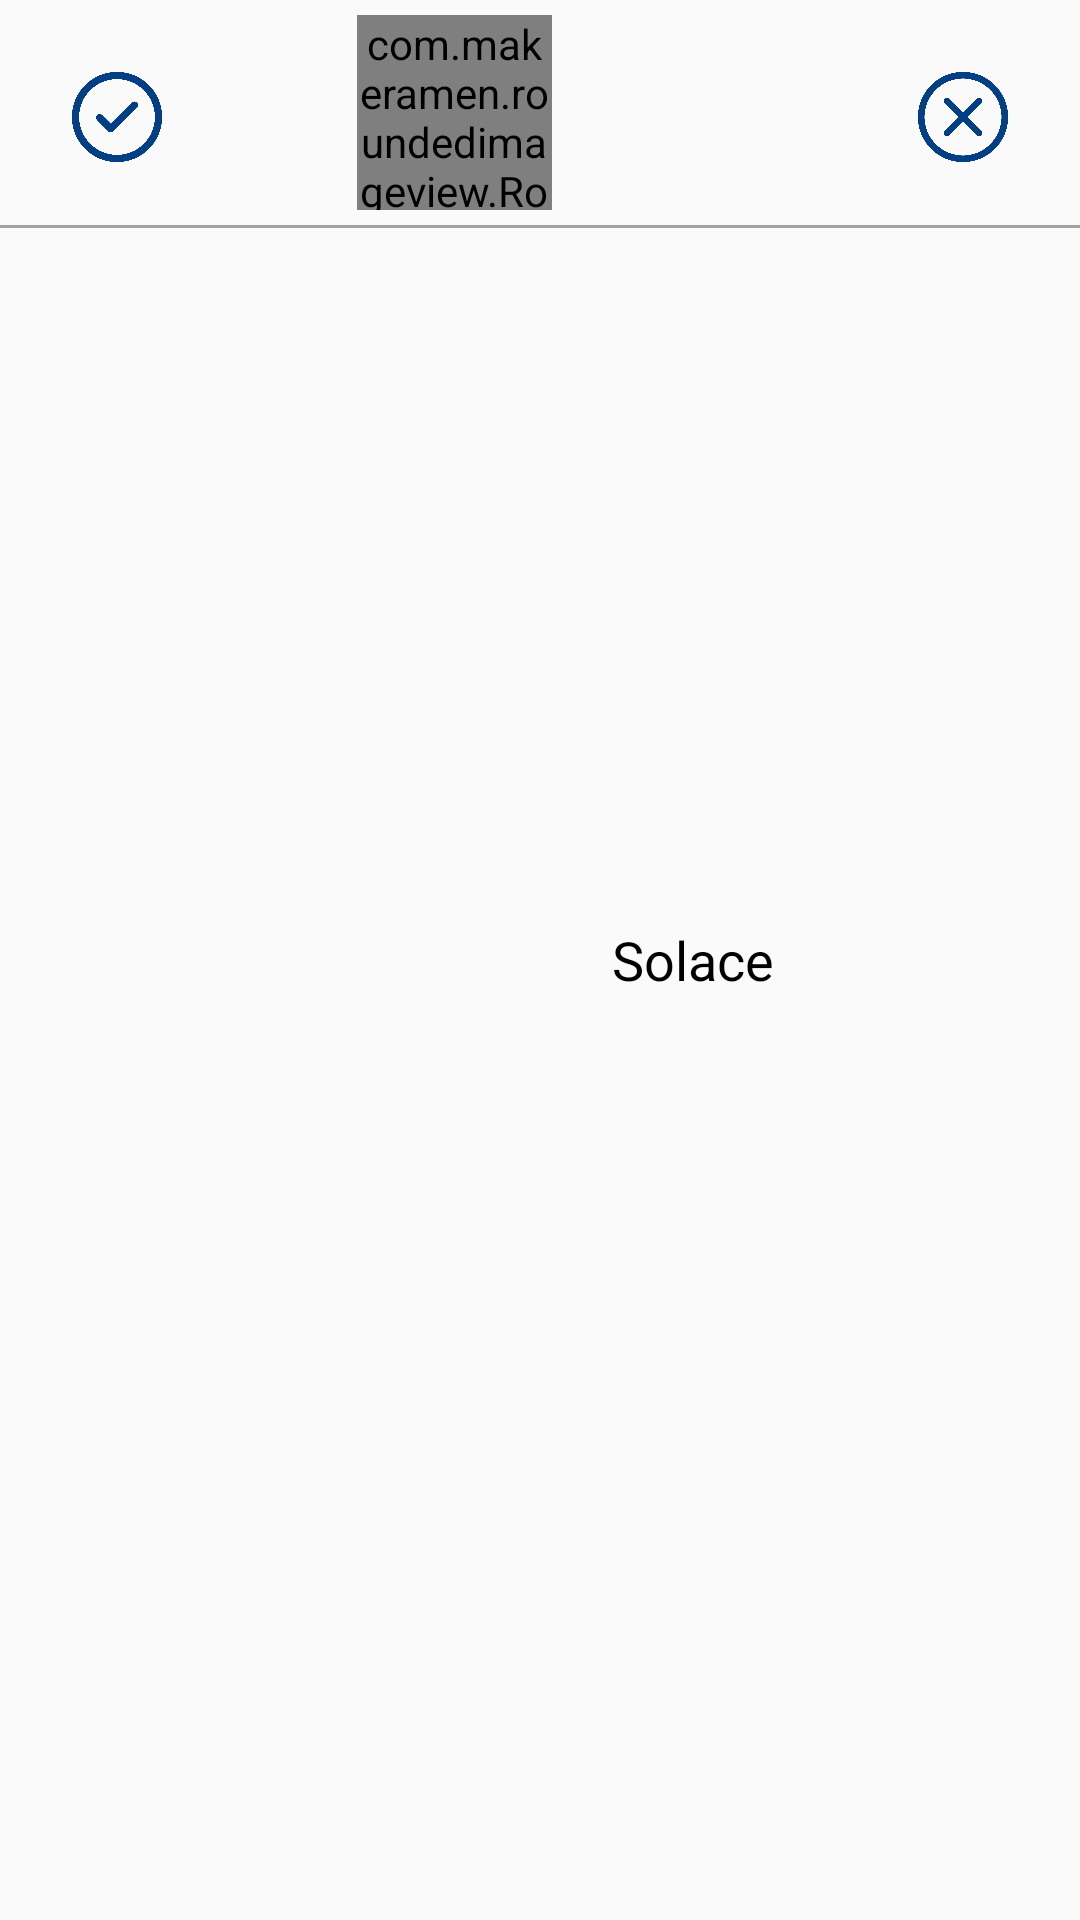

Where icons sit on this 1080x1920 app screen, as box(x1, y1, x2, y2):
check mark: box(72, 72, 162, 162)
